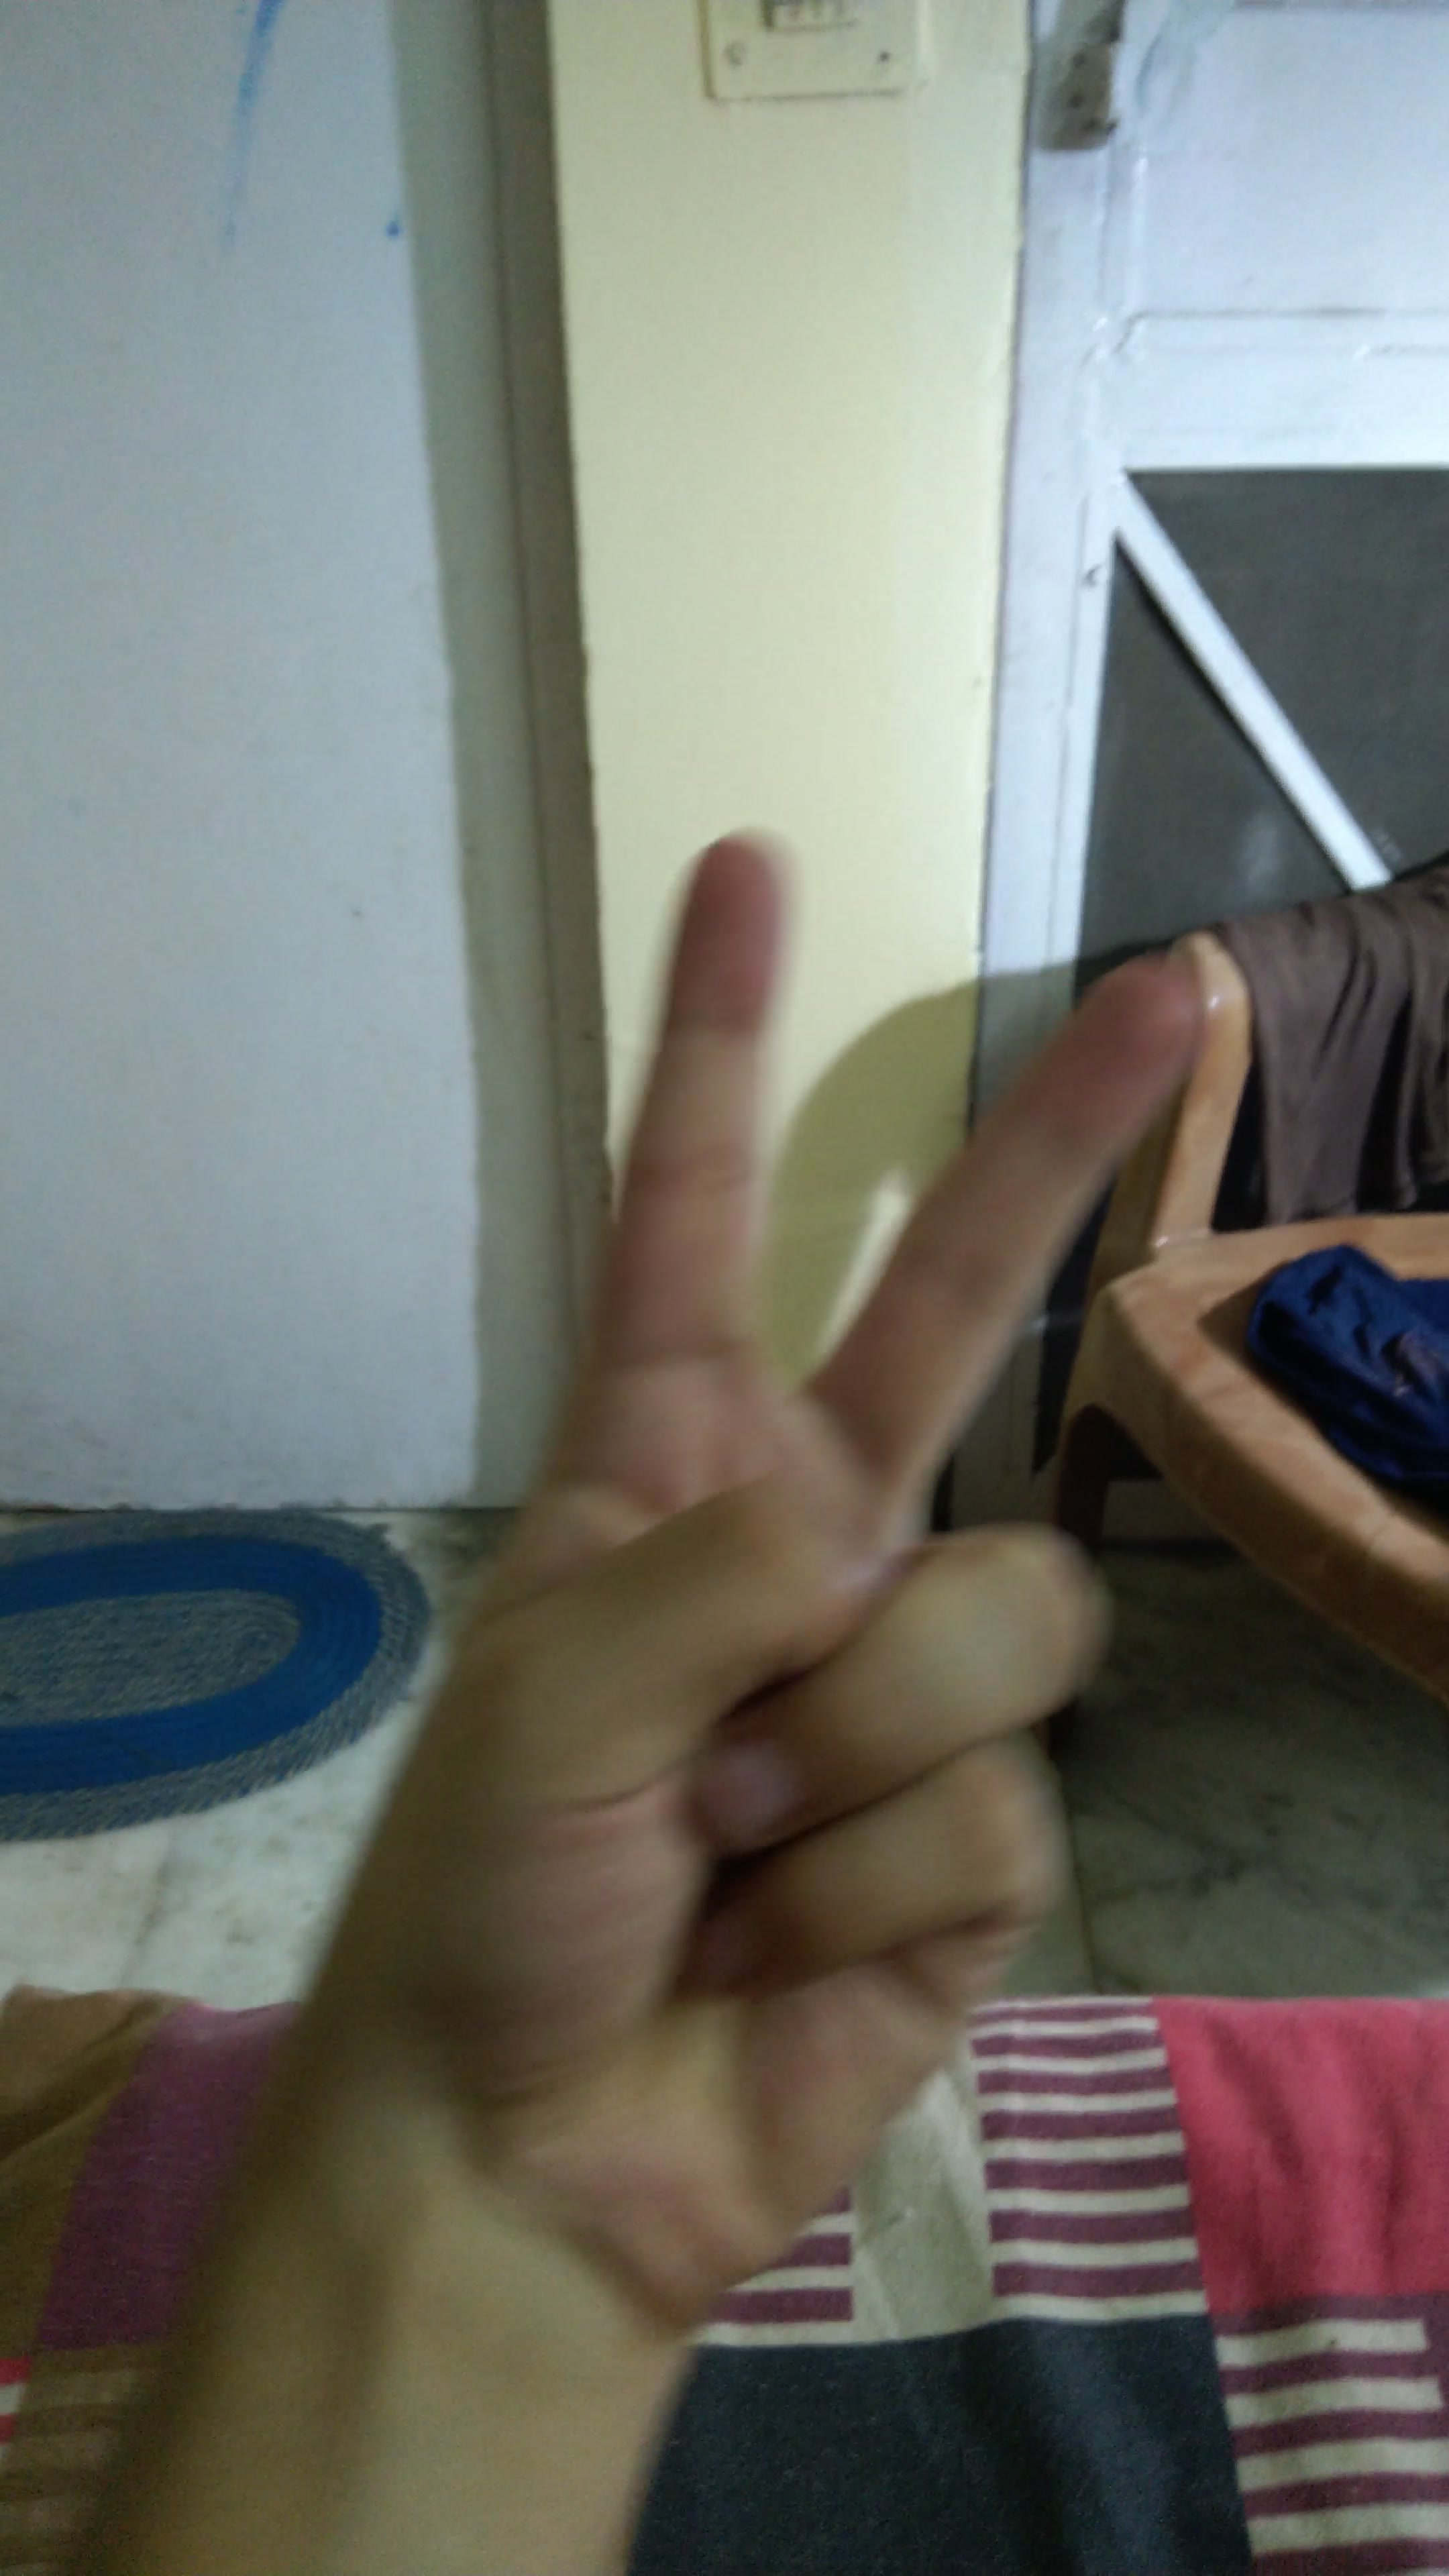hand: (248, 793, 1270, 2362)
